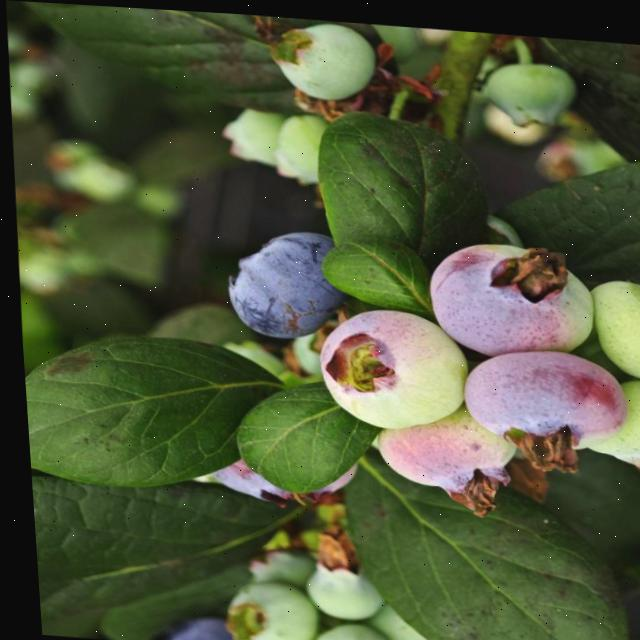RipeBlueBerry: (216, 217, 342, 336)
Semi-RipeBlueBerry: (428, 230, 592, 353), (310, 301, 466, 427), (464, 339, 615, 435), (368, 412, 517, 488)
UnripeBlueBerry: (266, 12, 381, 94)
